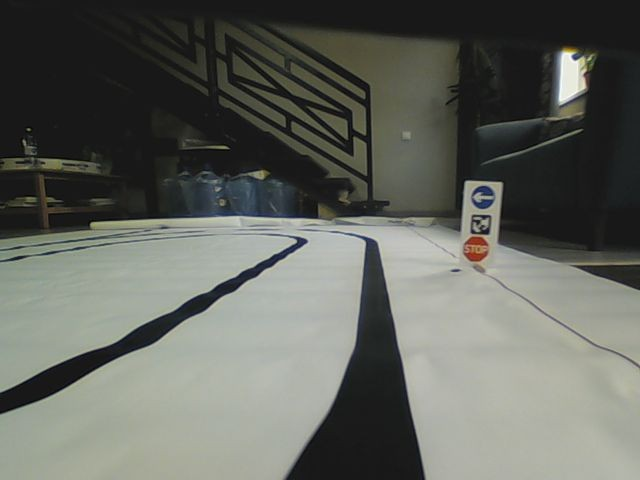Stop: (461, 235, 490, 263)
